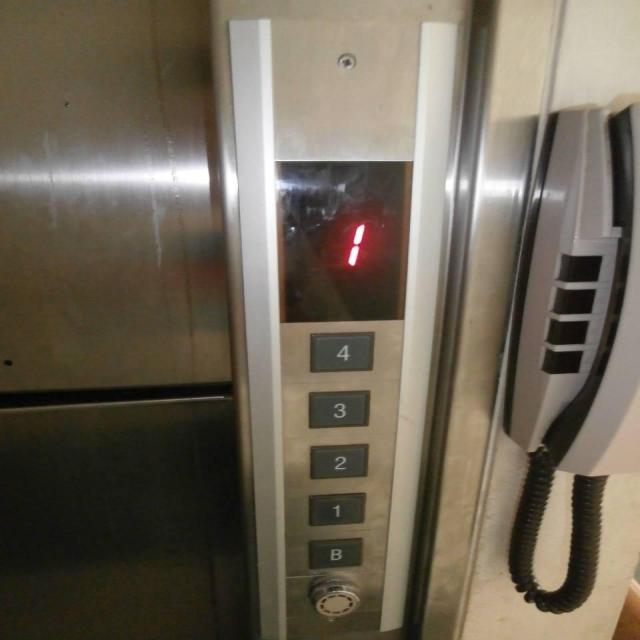1: (305, 490, 368, 528)
2: (305, 440, 370, 480)
3: (303, 387, 372, 430)
4: (304, 328, 381, 374)
B: (304, 536, 366, 570)
led: (271, 157, 418, 324)
speaker: (306, 580, 367, 620)
